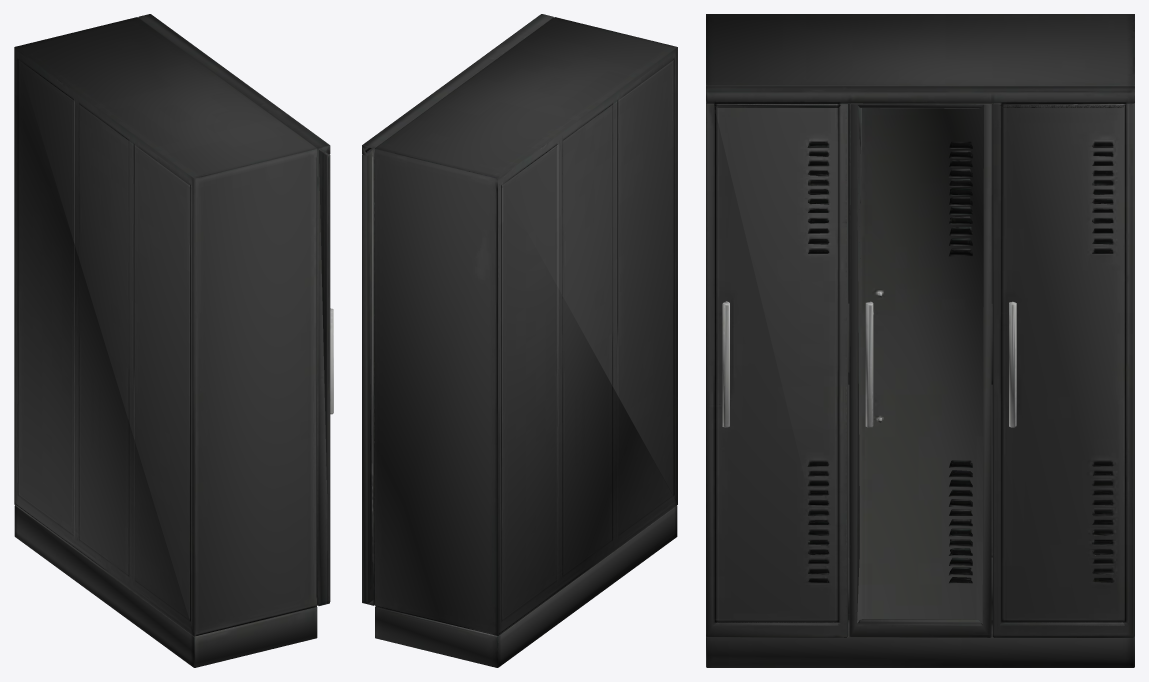
File: lockers_v01.optimized.glb
3 views of the same model, side by side, from view 1: azimuth 30°, elevation 25°; view 2: azimuth 150°, elevation 25°; view 3: azimuth 270°, elevation 25° (orthographic). The views are drawn at different scales.
Parts seen in each view (by area): view 1: tripo_node_0cab04f4-78e1-4b1d-b25c-9e4606e84122; view 2: tripo_node_0cab04f4-78e1-4b1d-b25c-9e4606e84122; view 3: tripo_node_0cab04f4-78e1-4b1d-b25c-9e4606e84122.
Part boxes in pixels (<box>): tripo_node_0cab04f4-78e1-4b1d-b25c-9e4606e84122: <box>14,14,333,667</box>; tripo_node_0cab04f4-78e1-4b1d-b25c-9e4606e84122: <box>362,14,677,667</box>; tripo_node_0cab04f4-78e1-4b1d-b25c-9e4606e84122: <box>706,14,1134,667</box>.
Size of the model in its own units: 0.3145 by 0.998 by 0.666.
1 material, 1 textured.
